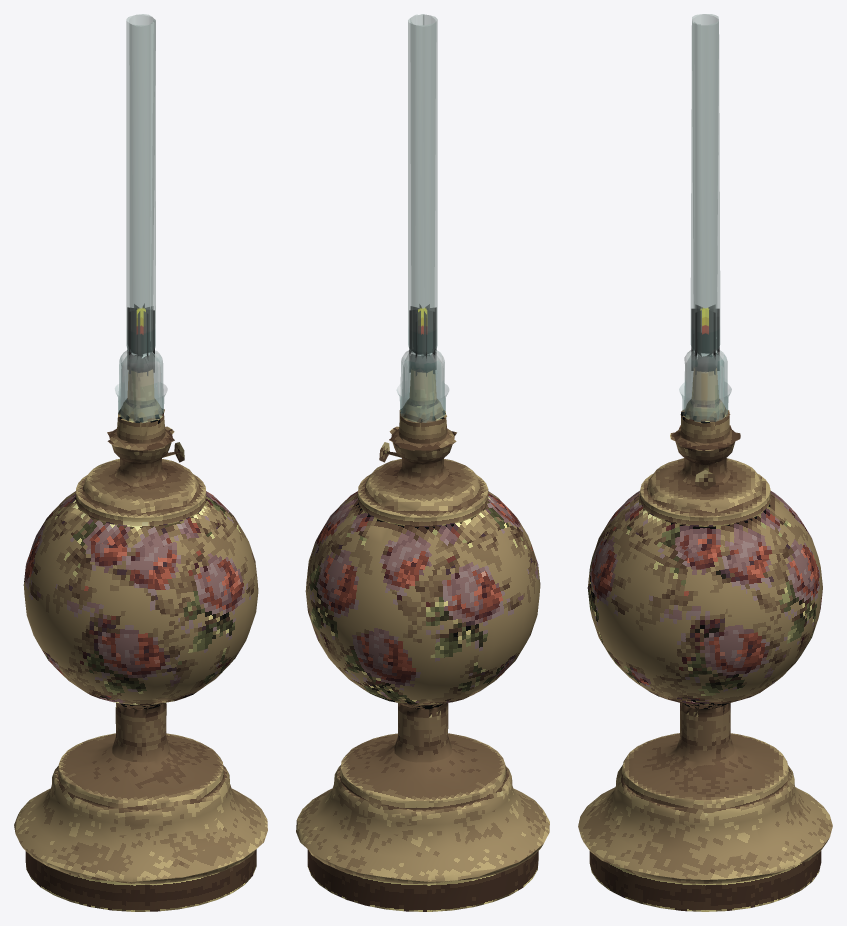
Rendered from vintage_oil_lamp.glb.
3 views of the same model, side by side, from view 1: azimuth 30°, elevation 25°; view 2: azimuth 150°, elevation 25°; view 3: azimuth 270°, elevation 25° (orthographic).
Visible parts, largest first — view 1: body, glass, flame; view 2: body, glass, flame; view 3: body, glass, flame.
Boxes of the visible parts, x1,y1,x2,y2 form: body: (14, 367, 267, 911); glass: (115, 14, 167, 422); flame: (127, 304, 154, 375); body: (296, 369, 549, 911); glass: (396, 14, 448, 422); flame: (409, 304, 436, 376); body: (578, 368, 832, 911); glass: (679, 14, 731, 421); flame: (691, 305, 719, 374).
Bounding box in the file's own units: 0.2192 × 0.8016 × 0.2196.
Materials: 3 (3 with a texture image).
